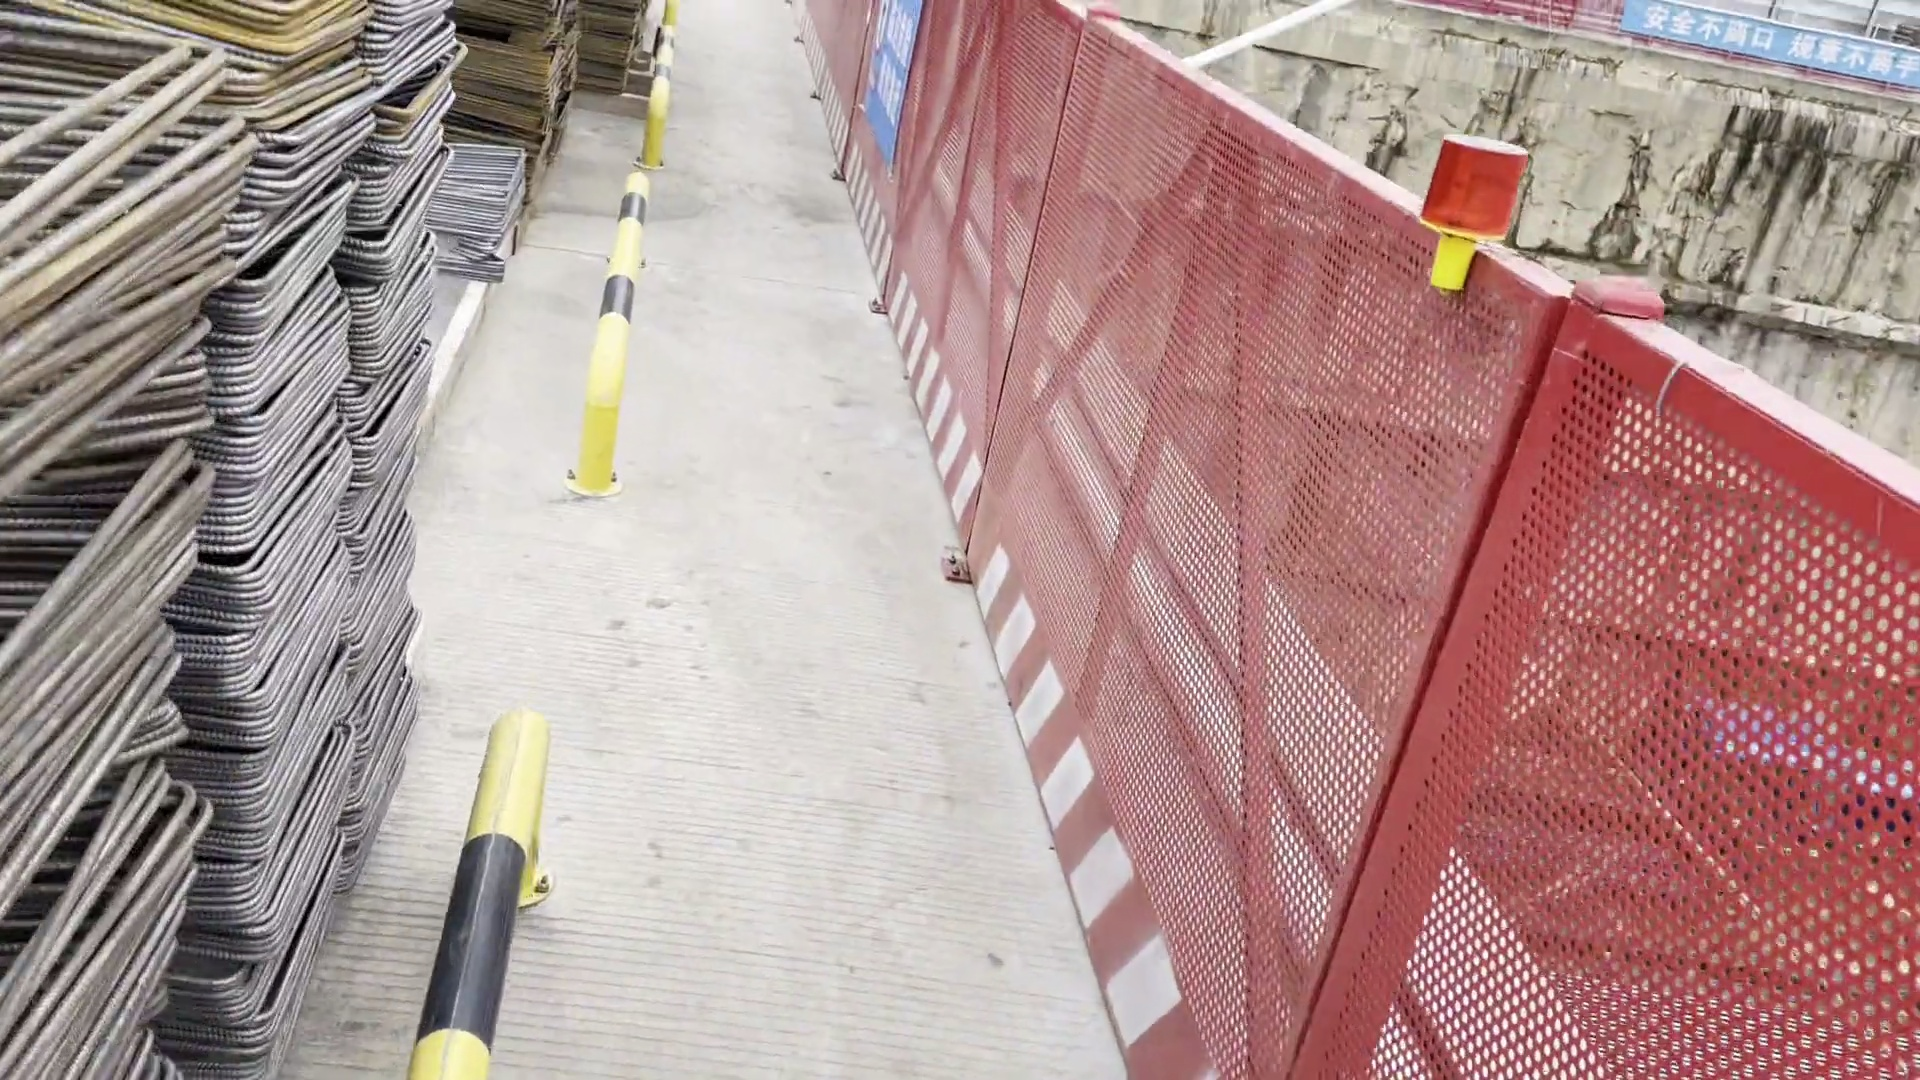fence: (1000, 146, 1899, 1080), (785, 3, 1309, 695), (1418, 1, 1920, 88)
slogan: (1607, 4, 1920, 100), (844, 1, 964, 193)
